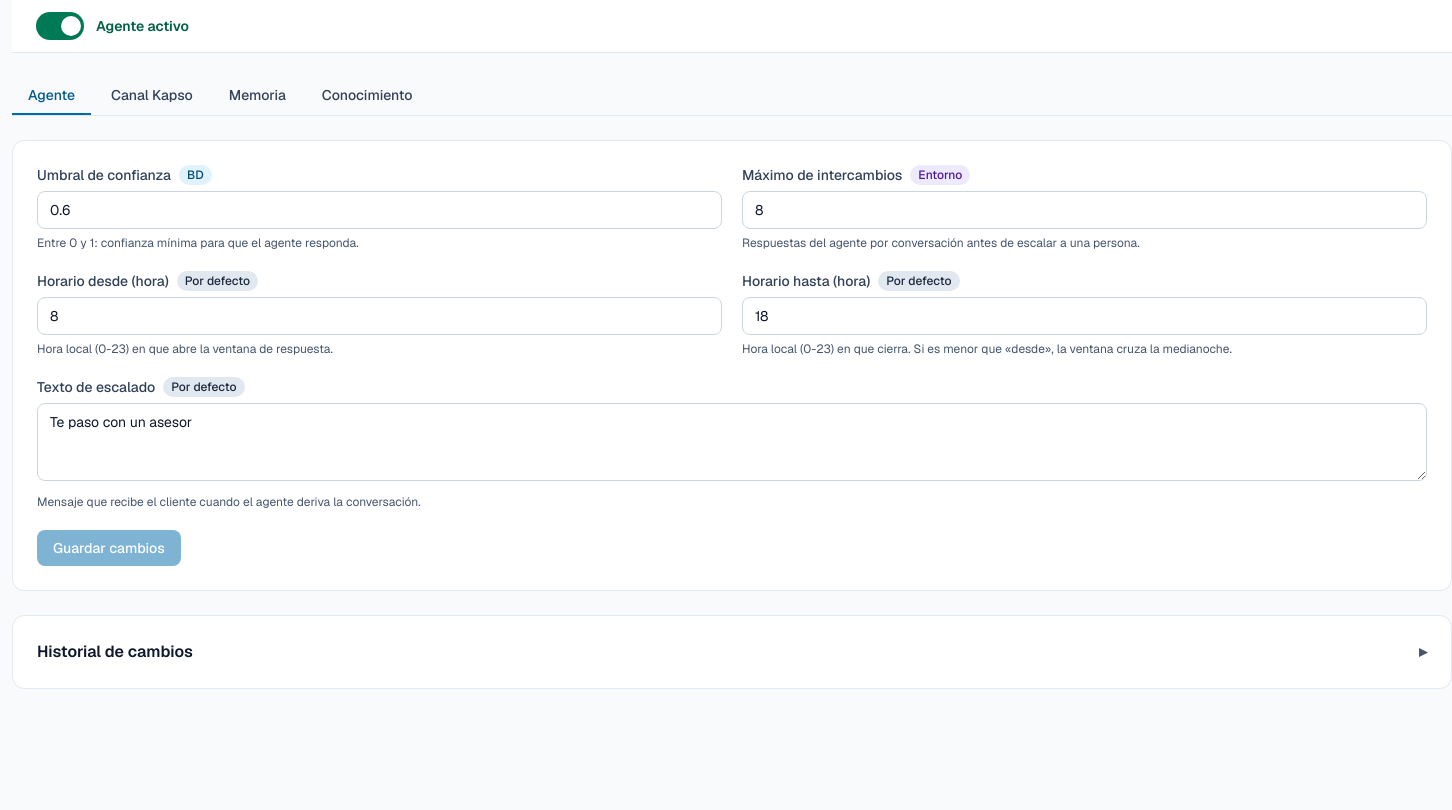
Test: PanelConfiguracion — tab Agente › Guardar está deshabilitado mientras esté pristine y envía solo lo cambiado
This screenshot has width=1452, height=810.
Expected: the button "Guardar cambios" is disabled, [37,530,181,566]
Replace the text in the number field labelled "Umbral de confianza" with "0.75". click: (380, 210)
box: [37,191,722,229]
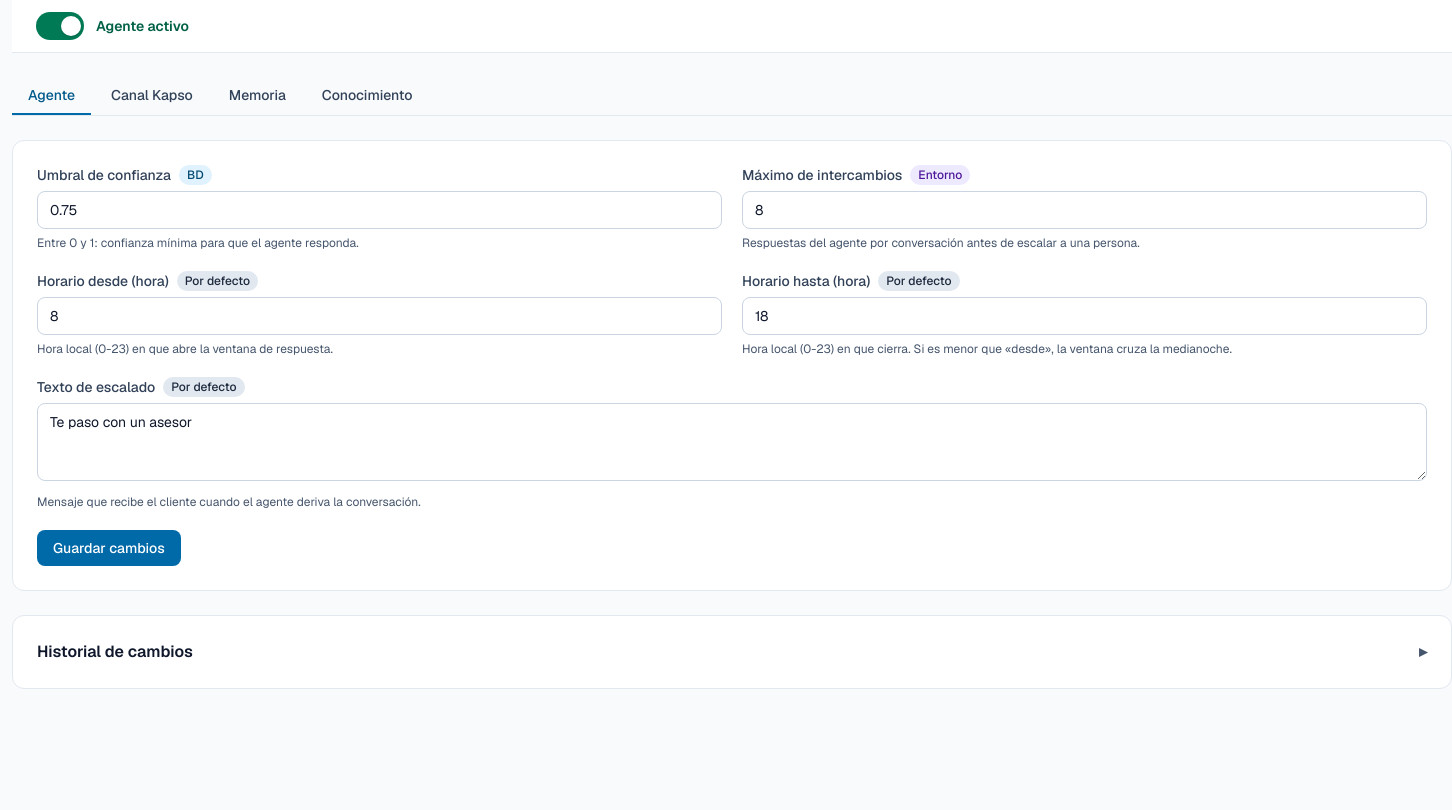
Expected: the button "Guardar cambios" is enabled
Click the button "Guardar cambios". click: (109, 548)
box: [37,530,181,566]
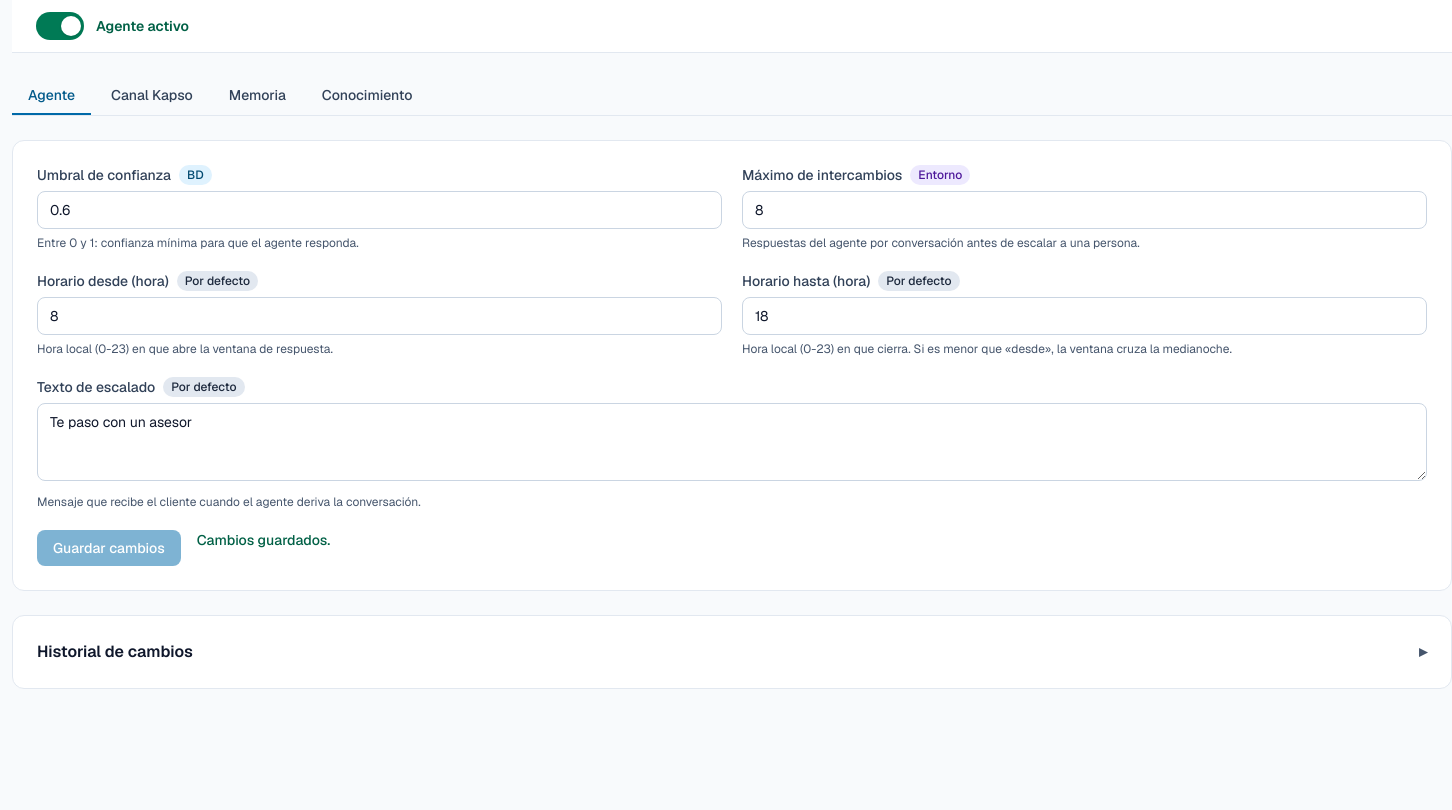
Expected: the text "Cambios guardados." is shown, [197,530,330,550]
